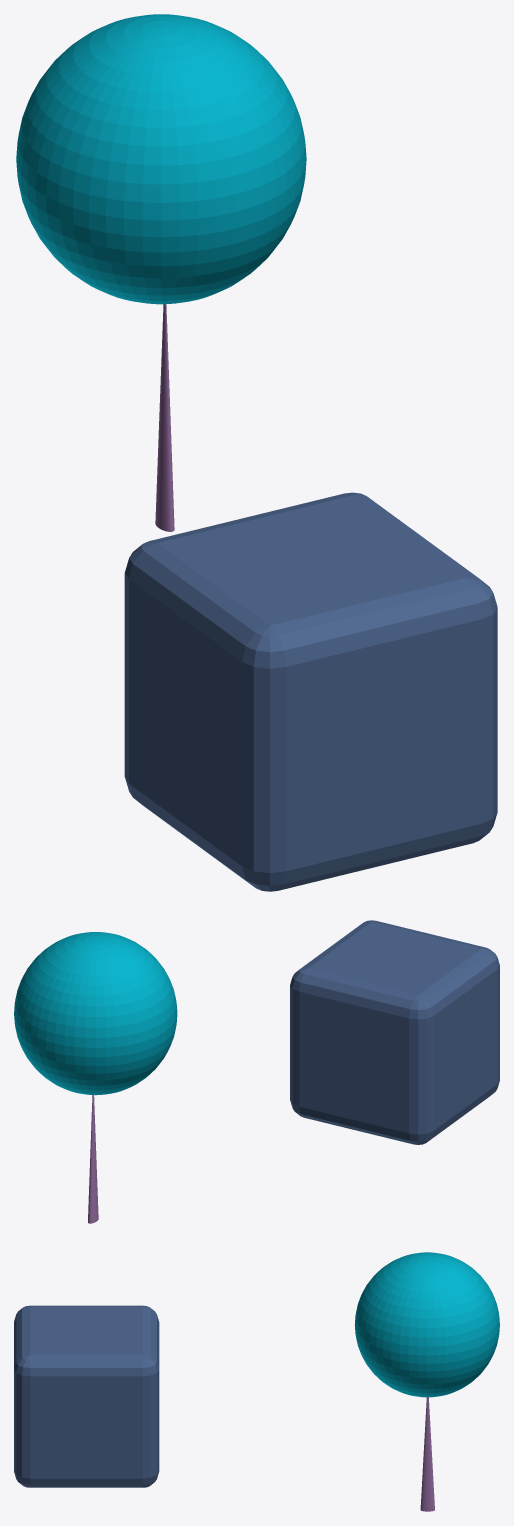
The model's file is grayson.glb.
3 renders of one model, top to bottom at view 1: azimuth 30°, elevation 25°; view 2: azimuth 150°, elevation 25°; view 3: azimuth 270°, elevation 25°, orthographic. The views are drawn at different scales.
Visible parts, largest first — view 1: Mesh_Mesh_head_geo.001_lambert2SG.001; view 2: Mesh_Mesh_head_geo.001_lambert2SG.001; view 3: Mesh_Mesh_head_geo.001_lambert2SG.001.
Part boxes in pixels (x1,y1,x2,y2): Mesh_Mesh_head_geo.001_lambert2SG.001: (16, 14, 497, 891); Mesh_Mesh_head_geo.001_lambert2SG.001: (14, 920, 499, 1223); Mesh_Mesh_head_geo.001_lambert2SG.001: (14, 1252, 499, 1511).
Bounding box in the file's own units: 0.0352 × 0.038 × 0.0669.
